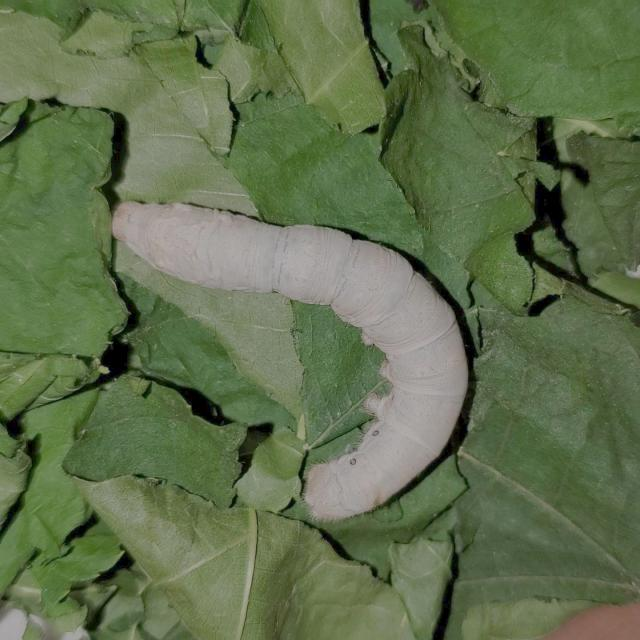Healthy: (80, 159, 495, 543)
